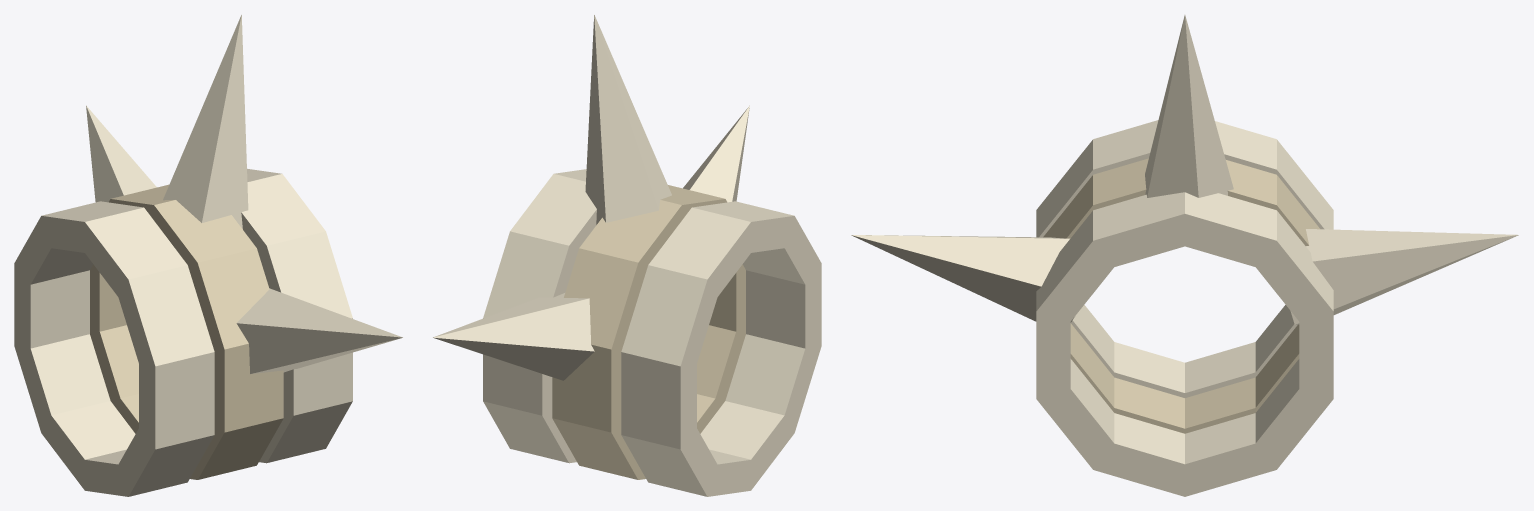
Rendered from bone_bracer_l.glb.
The picture shows the model from 3 angles, left to right: view 1: azimuth 30°, elevation 25°; view 2: azimuth 150°, elevation 25°; view 3: azimuth 270°, elevation 25°; orthographic projection. The views are drawn at different scales.
Parts seen in each view (by area): view 1: bone_bracer_l; view 2: bone_bracer_l; view 3: bone_bracer_l.
Boxes of the visible parts, x1=… form: bone_bracer_l: x1=14, y1=15, x2=402, y2=496; bone_bracer_l: x1=433, y1=15, x2=821, y2=496; bone_bracer_l: x1=851, y1=15, x2=1518, y2=496.
Size of the model in its own units: 0.2 by 0.4242 by 0.557.
